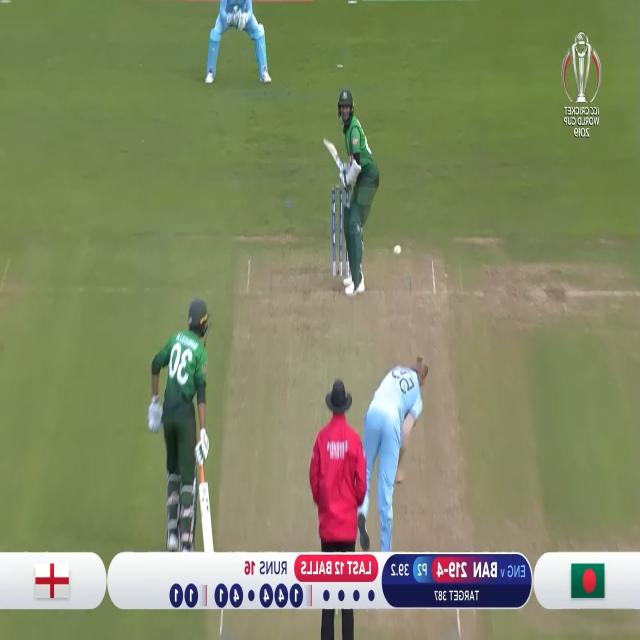ball: (393, 242, 403, 258)
